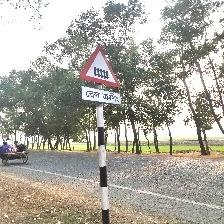Rail-crossing: (79, 44, 123, 108)
